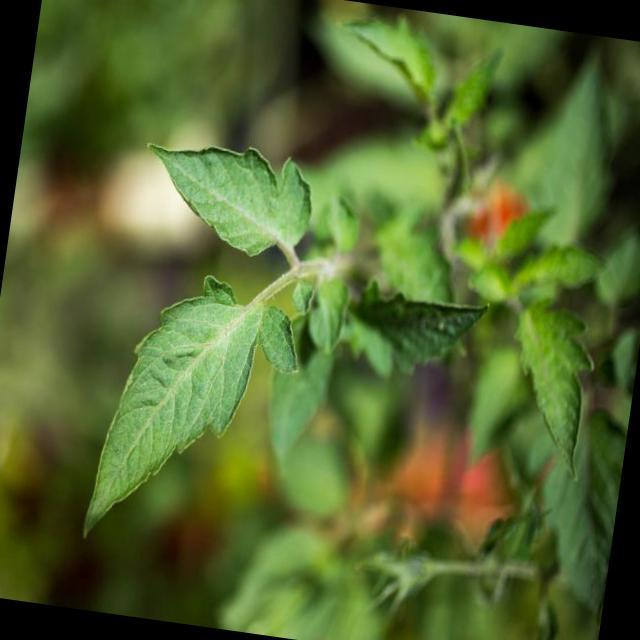Healthy Leaf: (56, 263, 283, 582), (111, 119, 342, 269), (474, 278, 625, 500)
